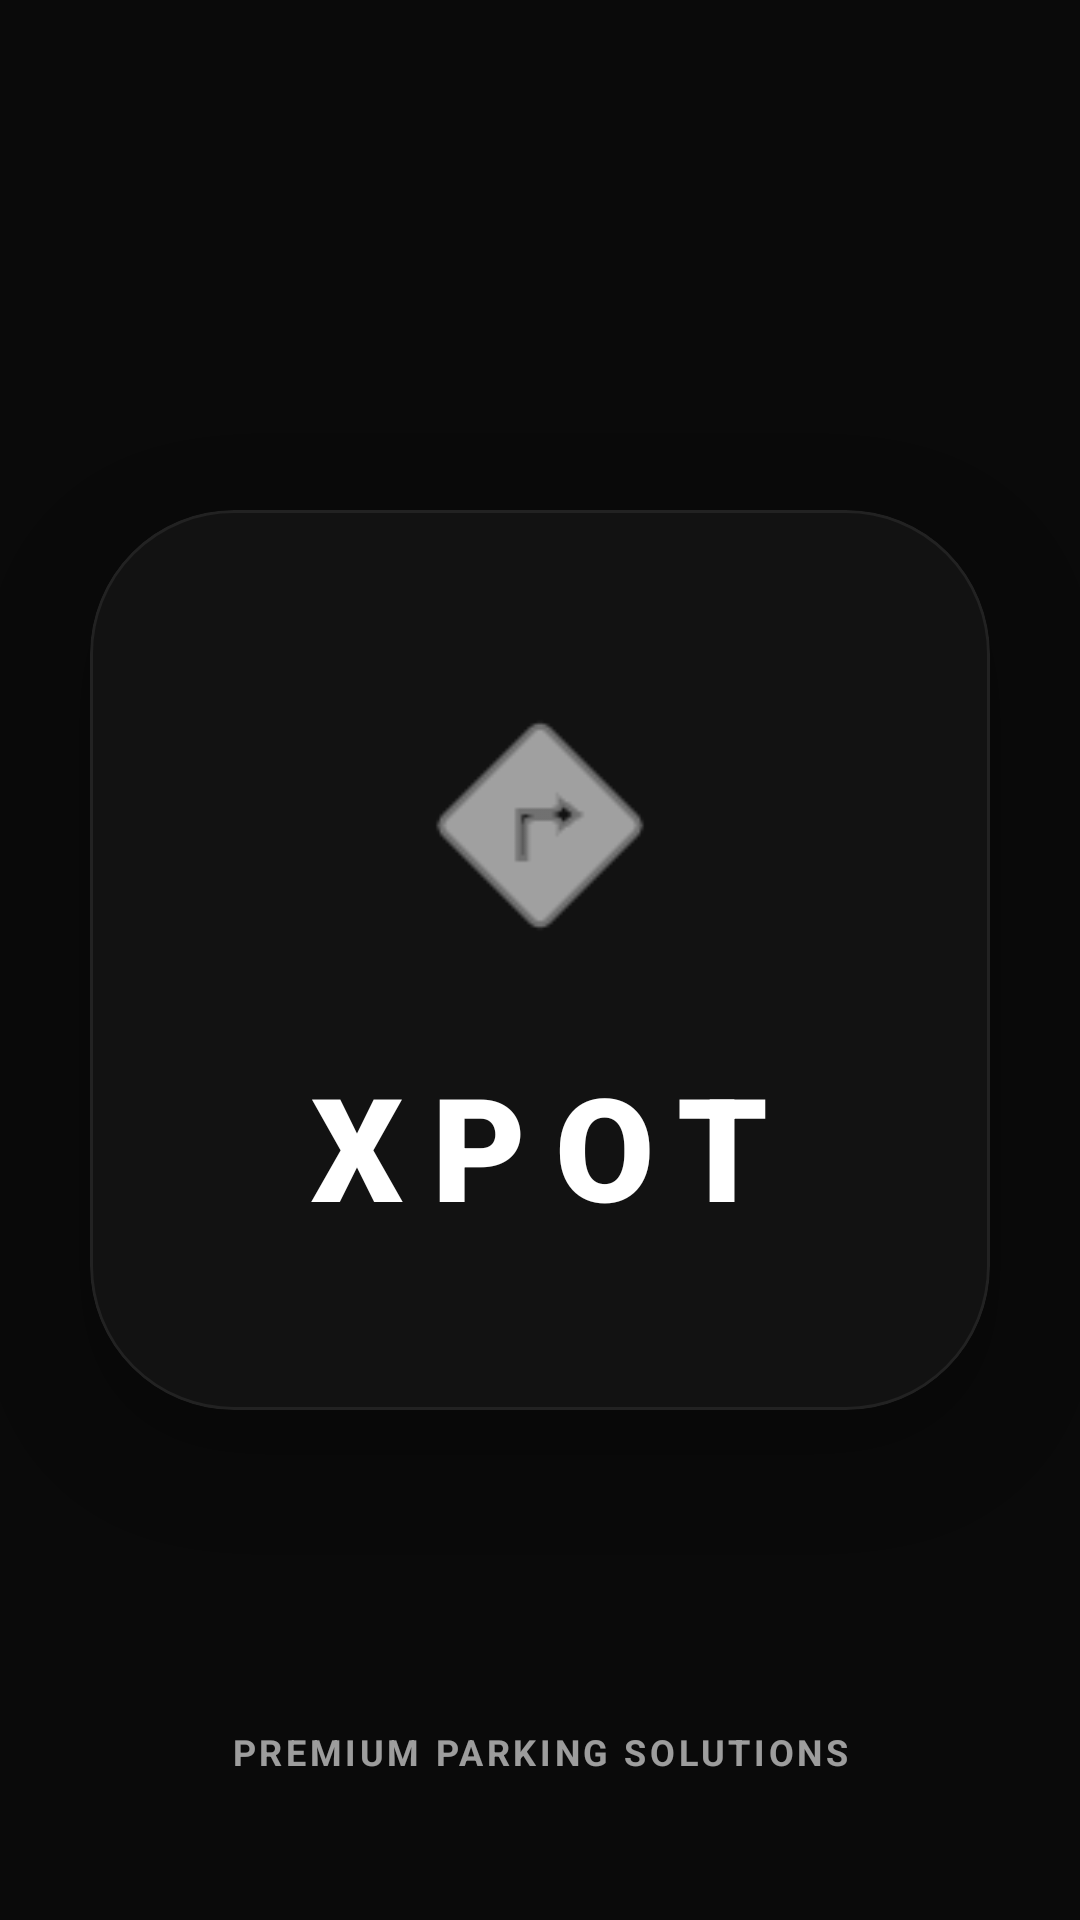

Screen size 1080*1920. Icon name, then its box in pixels as (x1, y1, x2, y2):
directions: (436, 723, 643, 928)
